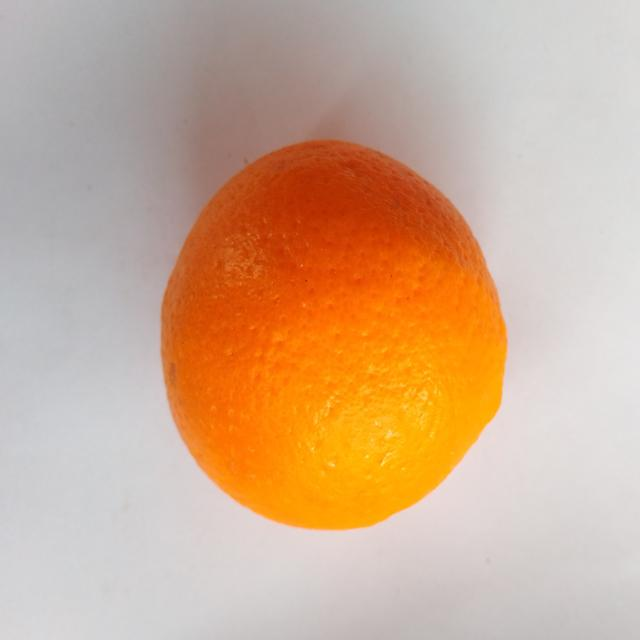orange: (162, 141, 506, 528)
